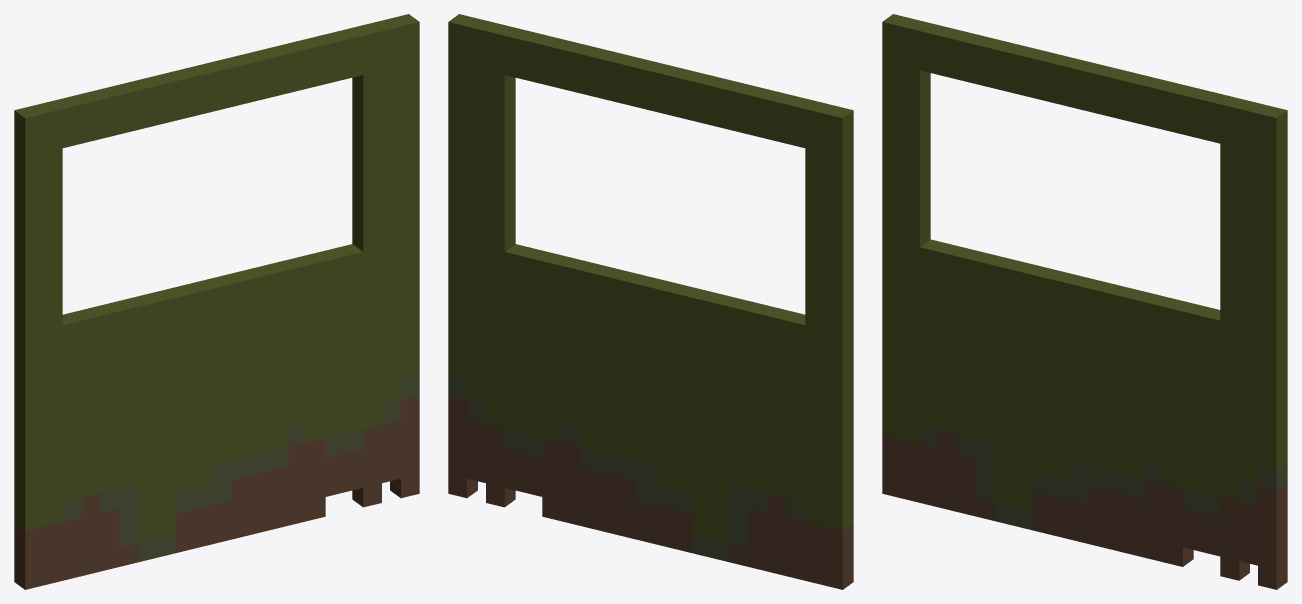
The model's file is abandoned_army_truck_far_side.glb.
3 renders of one model, left to right at view 1: azimuth 30°, elevation 25°; view 2: azimuth 150°, elevation 25°; view 3: azimuth 330°, elevation 25°, orthographic.
Visible parts, largest first — view 1: body:compound; view 2: body:compound; view 3: body:compound.
Boxes of the visible parts, x1=… form: body:compound: x1=14, y1=14, x2=419, y2=589; body:compound: x1=448, y1=14, x2=853, y2=589; body:compound: x1=882, y1=14, x2=1287, y2=589.
Bounding box in the file's own units: 1.31 × 1.5 × 0.0625.
